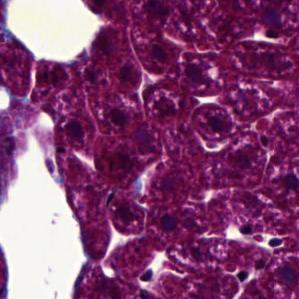inflammation: (192, 97, 235, 153), (229, 219, 290, 248)
